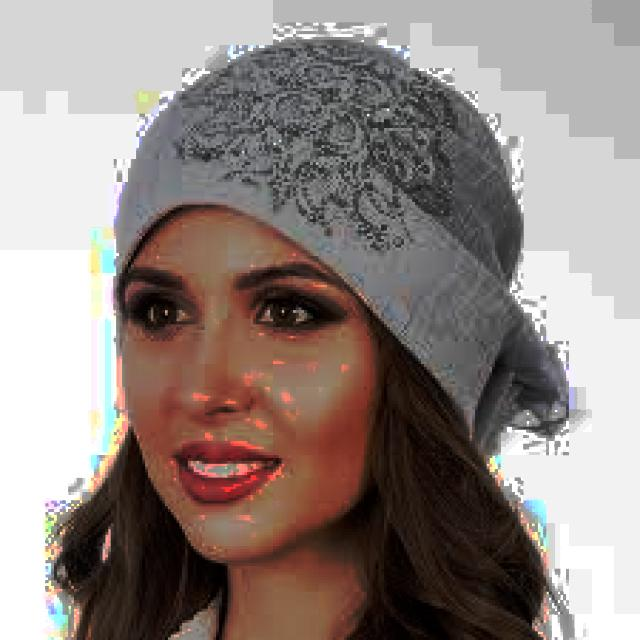TOPI: (91, 32, 580, 450)
